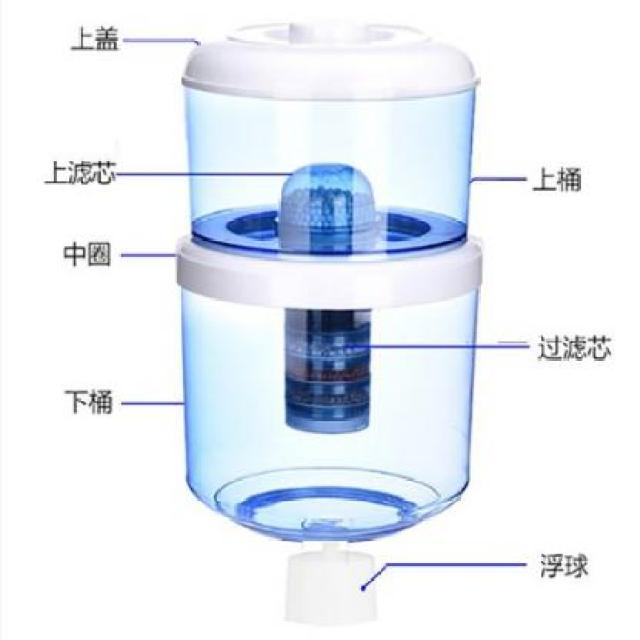coolerbottle: (172, 17, 486, 548)
